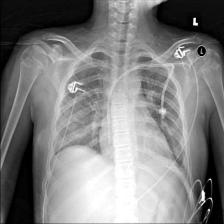normal: (41, 38, 198, 218)
